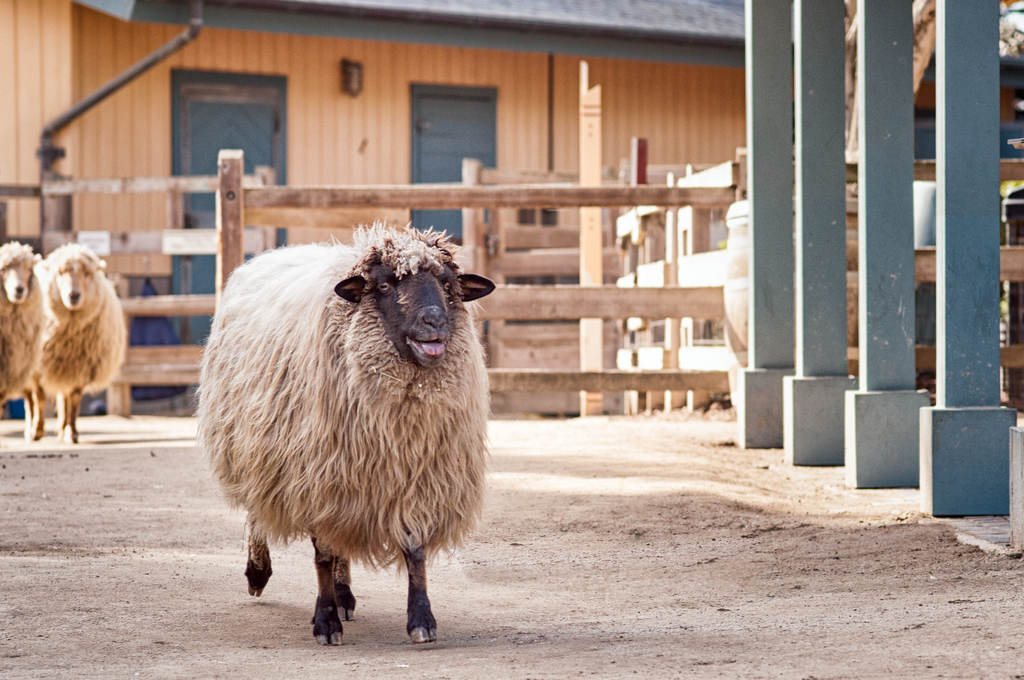sheep: (189, 214, 494, 646)
